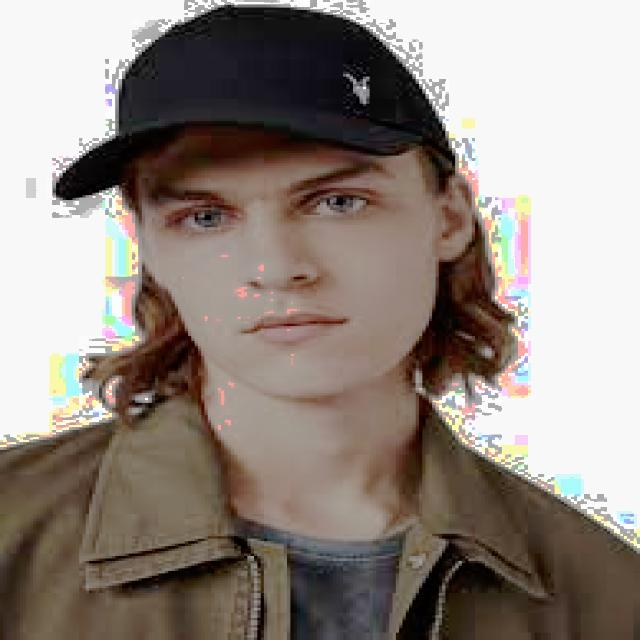TOPI: (21, 2, 476, 260)
